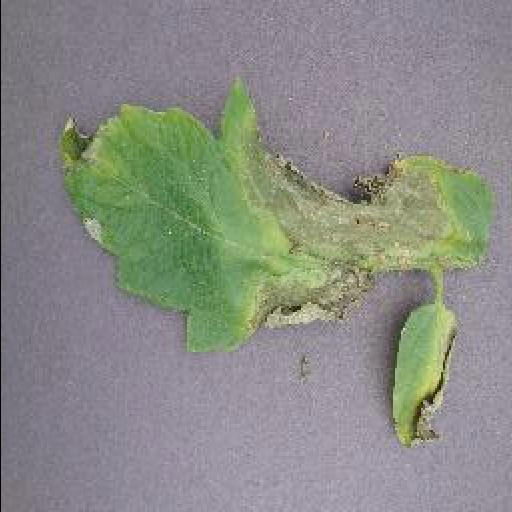disease_tomato: (46, 76, 492, 352), (386, 306, 460, 452)
